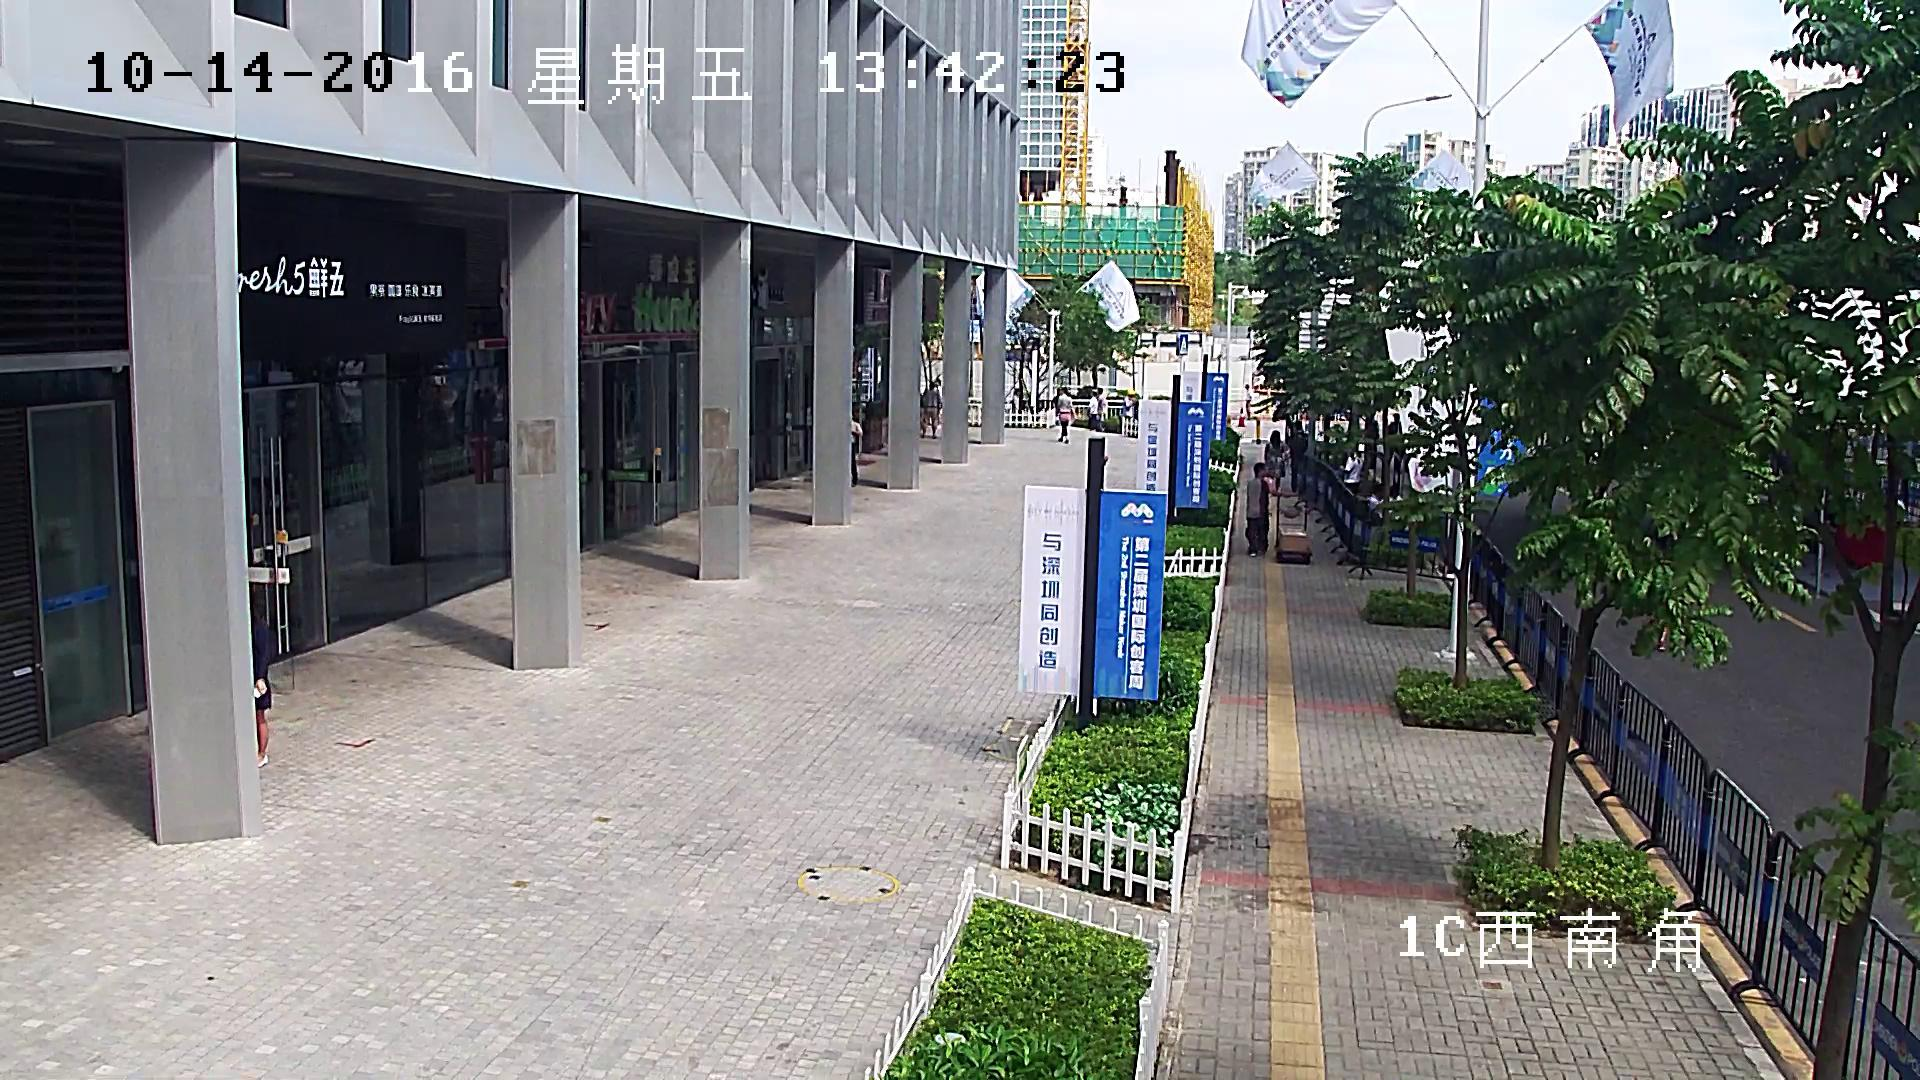person: (1246, 462, 1313, 564), (1245, 462, 1279, 557), (252, 618, 271, 766), (1286, 420, 1309, 493), (1264, 429, 1291, 490), (920, 380, 942, 438), (1056, 387, 1071, 442), (851, 419, 863, 485), (1341, 454, 1361, 491), (1389, 414, 1401, 463), (1084, 391, 1099, 430), (1123, 388, 1135, 419), (1244, 384, 1251, 418)
